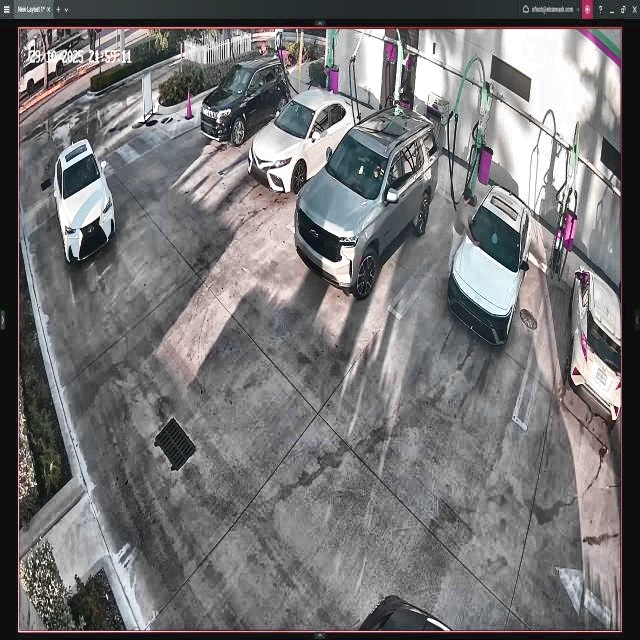Car: (296, 109, 437, 299), (449, 185, 532, 350), (249, 93, 360, 193), (201, 54, 289, 146)
